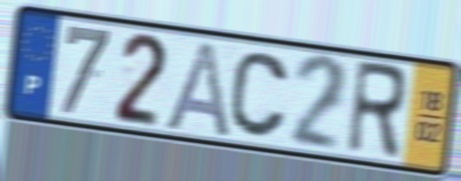2: (288, 52, 350, 155), (112, 30, 172, 132)
7: (57, 22, 114, 117)
A: (159, 37, 233, 141)
C: (226, 49, 291, 142)
R: (342, 58, 409, 164)
